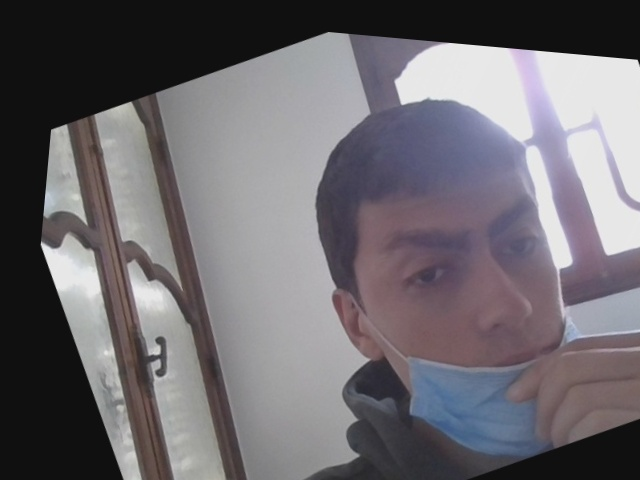mask_weared_incorrect: (360, 140, 589, 466)
